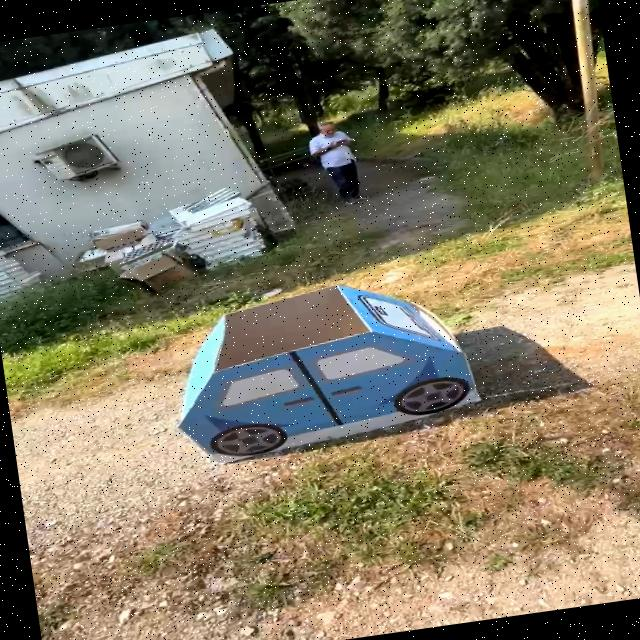blue_car: (131, 244, 517, 497)
